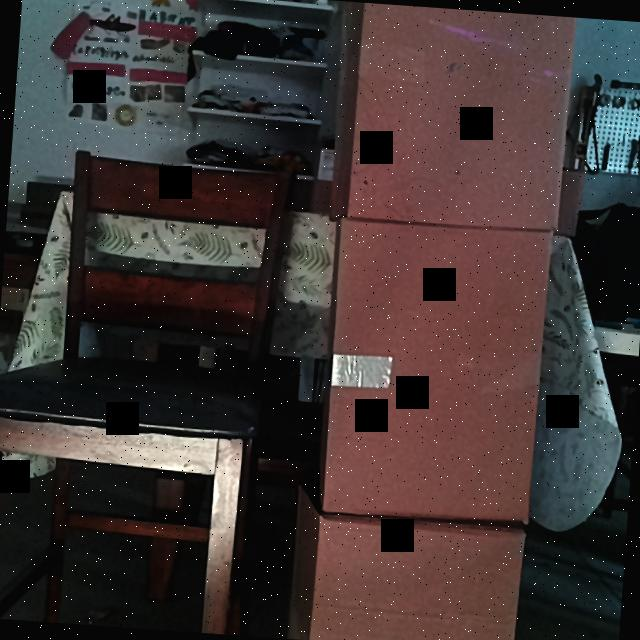box: (322, 217, 546, 524), (348, 2, 572, 232), (311, 515, 523, 640)
